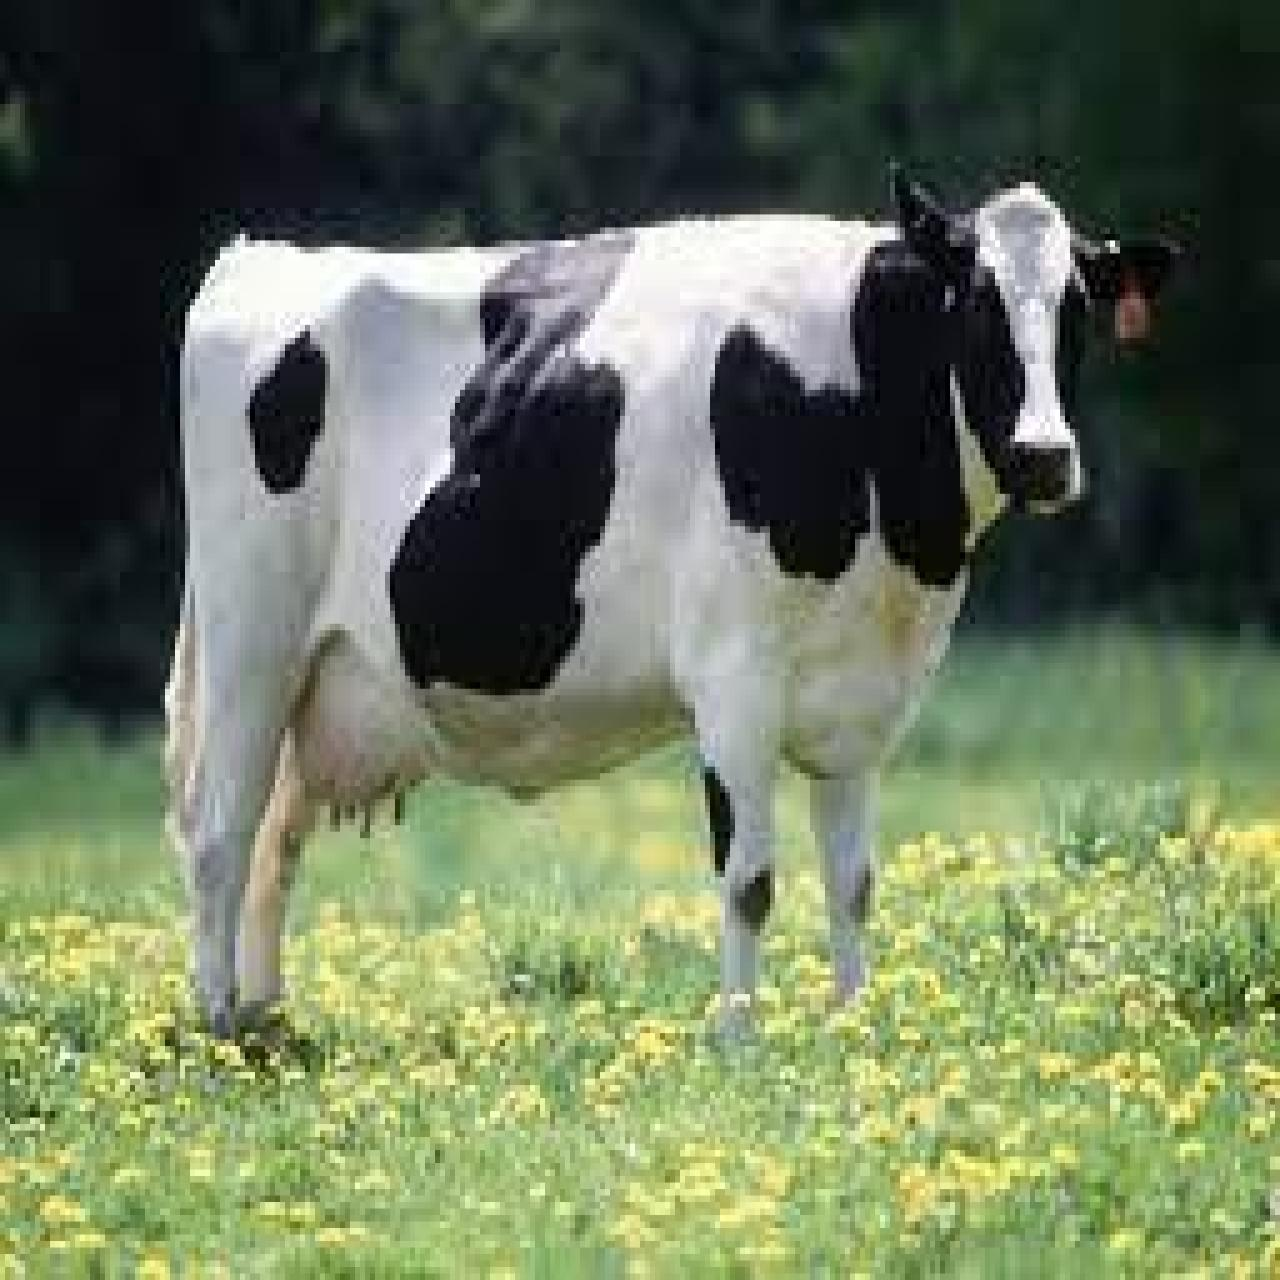cow: (168, 154, 1187, 1056)
